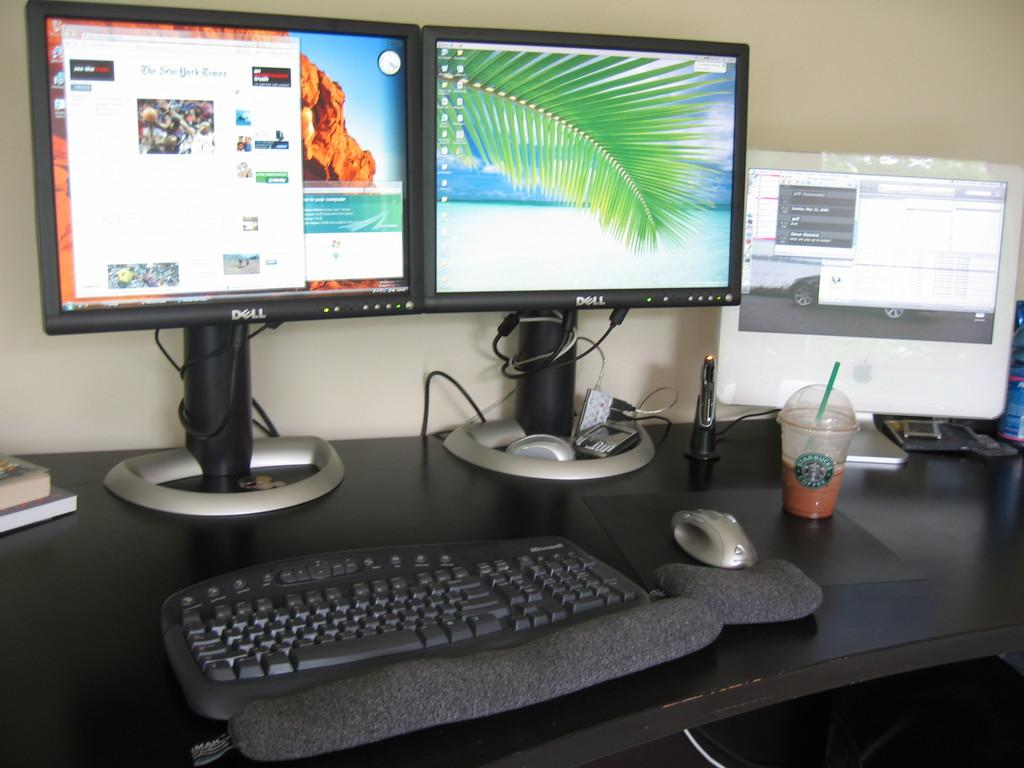Computer-keyboard: (158, 536, 654, 721)
Computer-monitor: (18, 13, 467, 426), (426, 24, 748, 482), (716, 148, 1023, 468)
